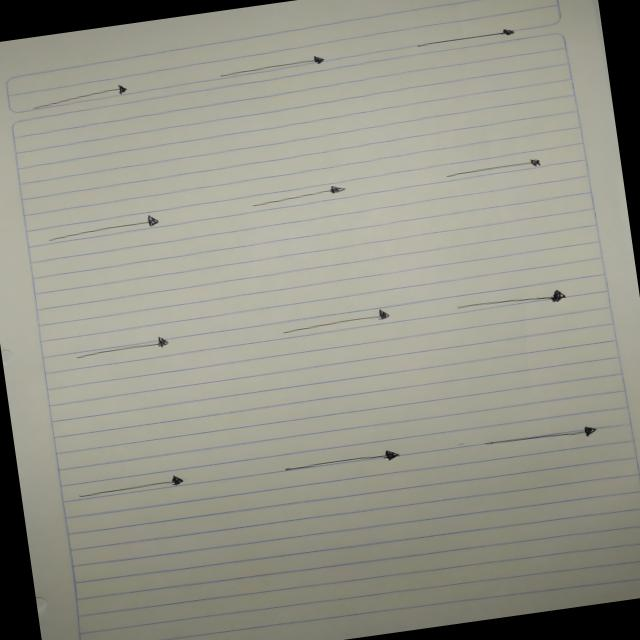arrow_line_right: (52, 321, 196, 372), (438, 274, 578, 326), (270, 435, 412, 483), (65, 463, 204, 508), (236, 175, 366, 222), (468, 416, 606, 460), (271, 300, 397, 348), (202, 46, 344, 87), (430, 148, 552, 190), (37, 208, 171, 246), (24, 76, 137, 117), (401, 21, 526, 58)
